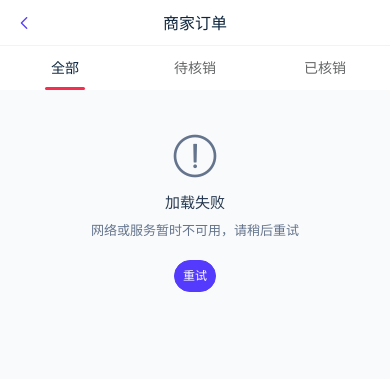
Test: Merchant/OrderList.vue — 查询（Phase 4.3 基线） › 请求失败显示 ErrorState，点击「重试」重新发起请求
Click the button "重试" at x=195, y=276, box [174,260,216,292]
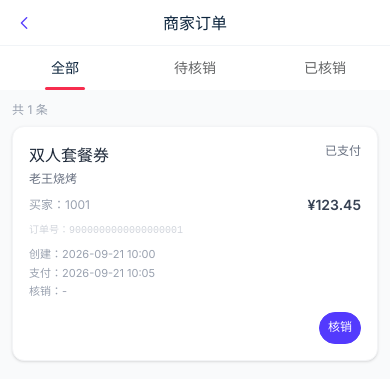
Expected: the text "双人套餐券" is shown, [29,143,109,167]
